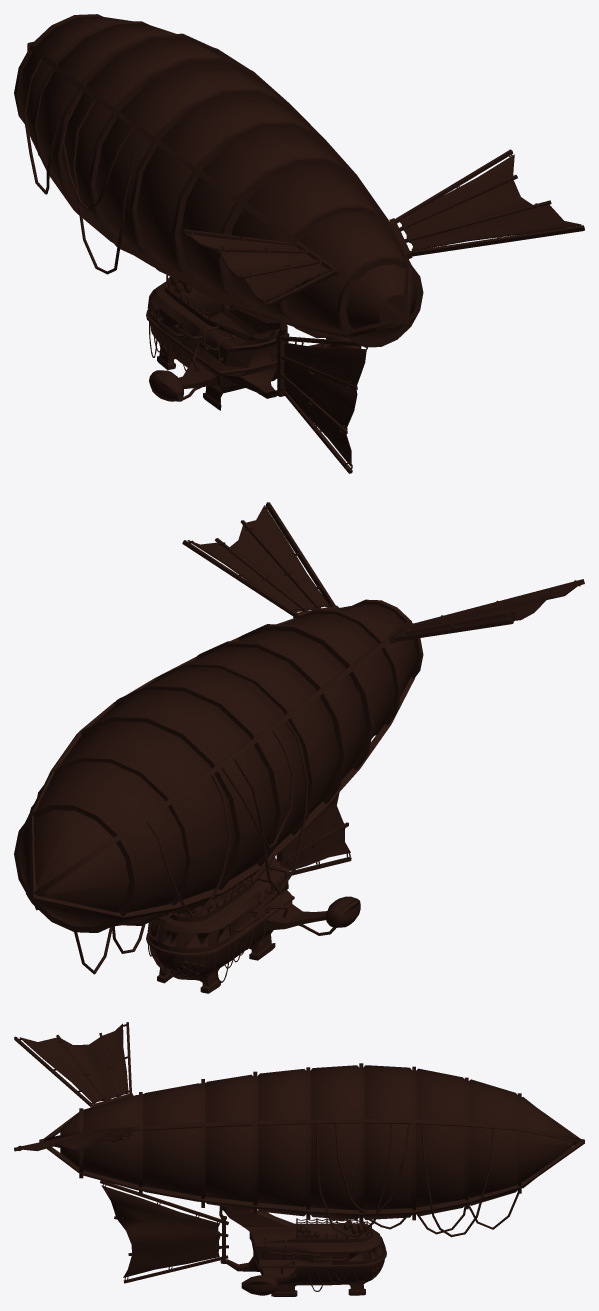
The model's file is dirigible.glb.
3 renders of one model, top to bottom at view 1: azimuth 30°, elevation 25°; view 2: azimuth 150°, elevation 25°; view 3: azimuth 270°, elevation 25°, orthographic. The views are drawn at different scales.
Visible parts, largest first — view 1: brown; view 2: brown; view 3: brown.
Part boxes in pixels (<box>): brown: <box>14,14,584,473</box>; brown: <box>14,502,584,993</box>; brown: <box>14,1022,584,1296</box>.
Size of the model in its own units: 46.24 by 40.42 by 96.32.
